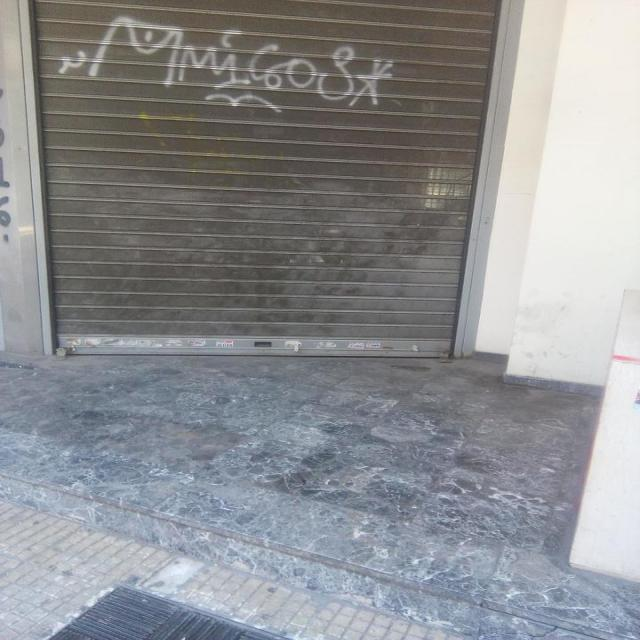nonspitting: (58, 16, 390, 113)
